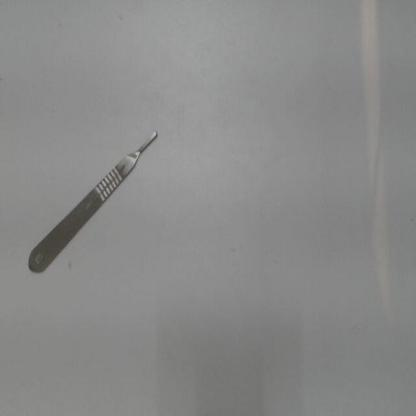No.3 BP Handle: (22, 113, 167, 288)
